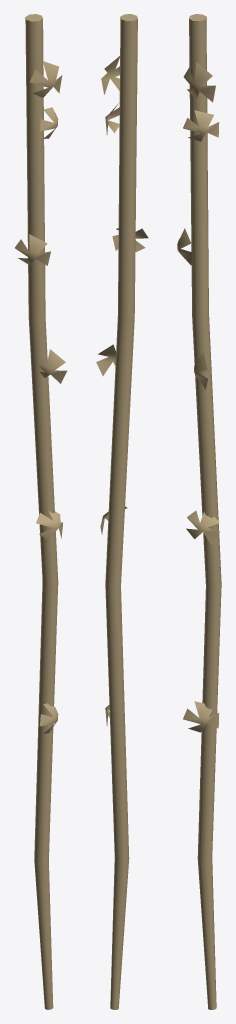
Rendered from vine-03.fbx.
The picture shows the model from 3 angles, left to right: view 1: azimuth 30°, elevation 25°; view 2: azimuth 210°, elevation 25°; view 3: azimuth 330°, elevation 25°; orthographic projection.
Parts seen in each view (by area): view 1: vine-03; view 2: vine-03; view 3: vine-03.
Boxes of the visible parts, bbox=[...] form: vine-03: bbox=[15, 14, 66, 1009]; vine-03: bbox=[96, 14, 148, 1009]; vine-03: bbox=[177, 14, 221, 1009].
Bounding box in the file's own units: 23.57 × 500 × 14.59.
